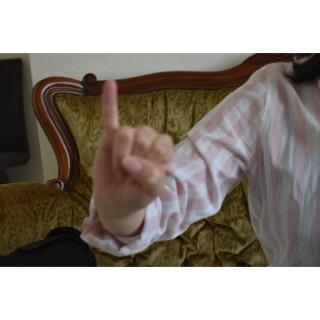MEEM: (92, 75, 177, 225)
